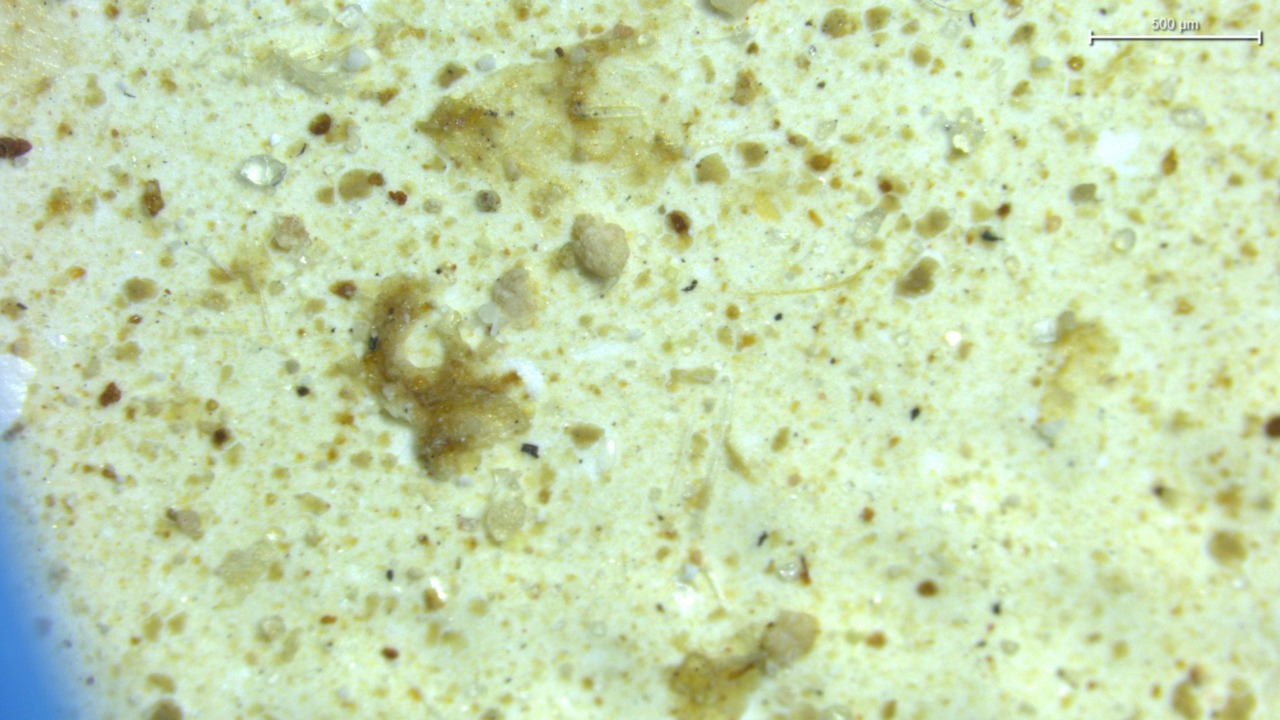microplastic_fragment: (569, 214, 629, 281), (240, 155, 286, 186), (344, 48, 369, 72)
